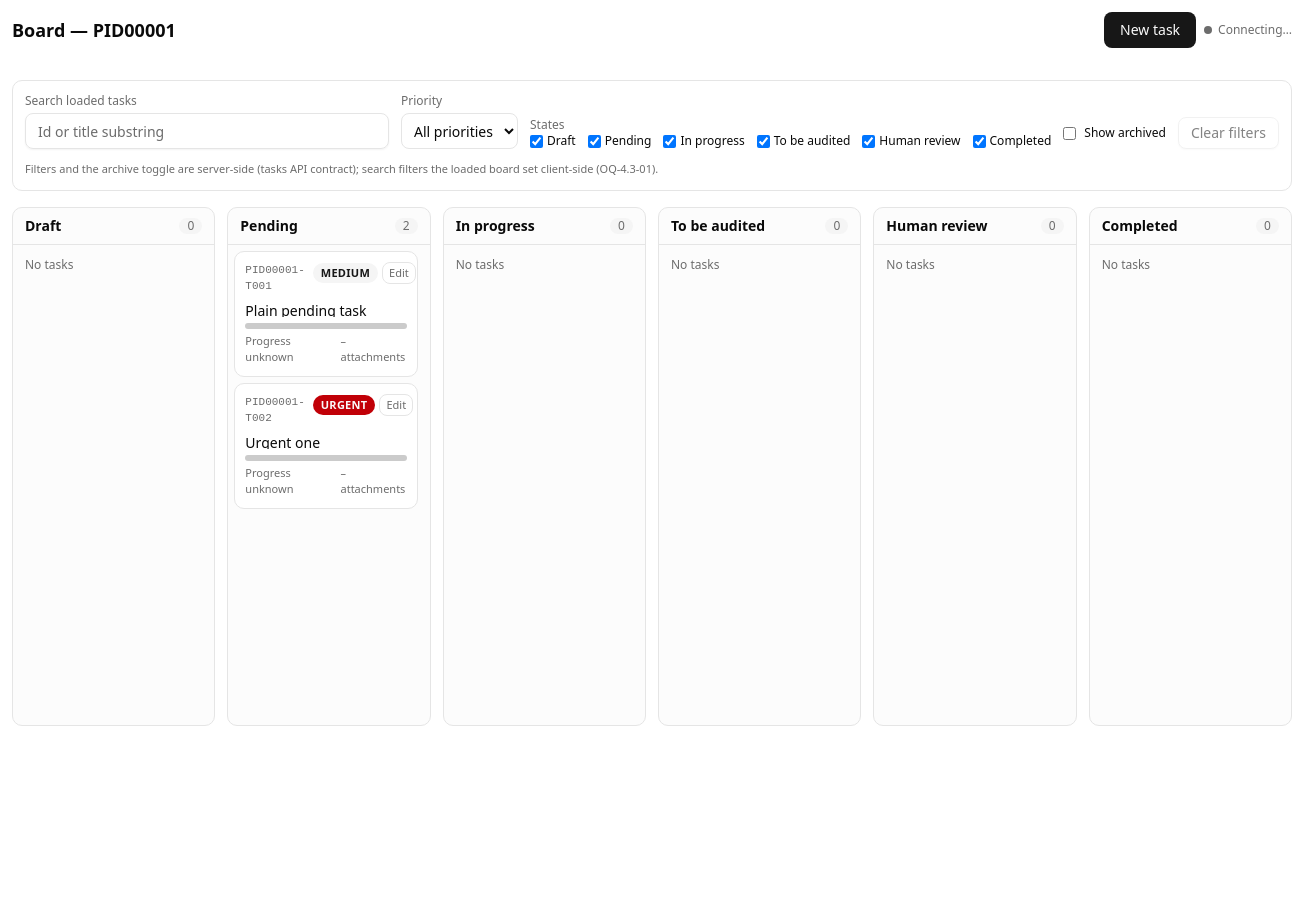
Test: Board filters (MT-4.3-03) › composes filters, then clears them all back to the documented defaults
Check: the link "Plain pending task" is shown, box [245, 300, 366, 316]
Select "Urgent" in the dropdown with test id "board-priority-filter" at (460,131), box [401, 113, 518, 149]
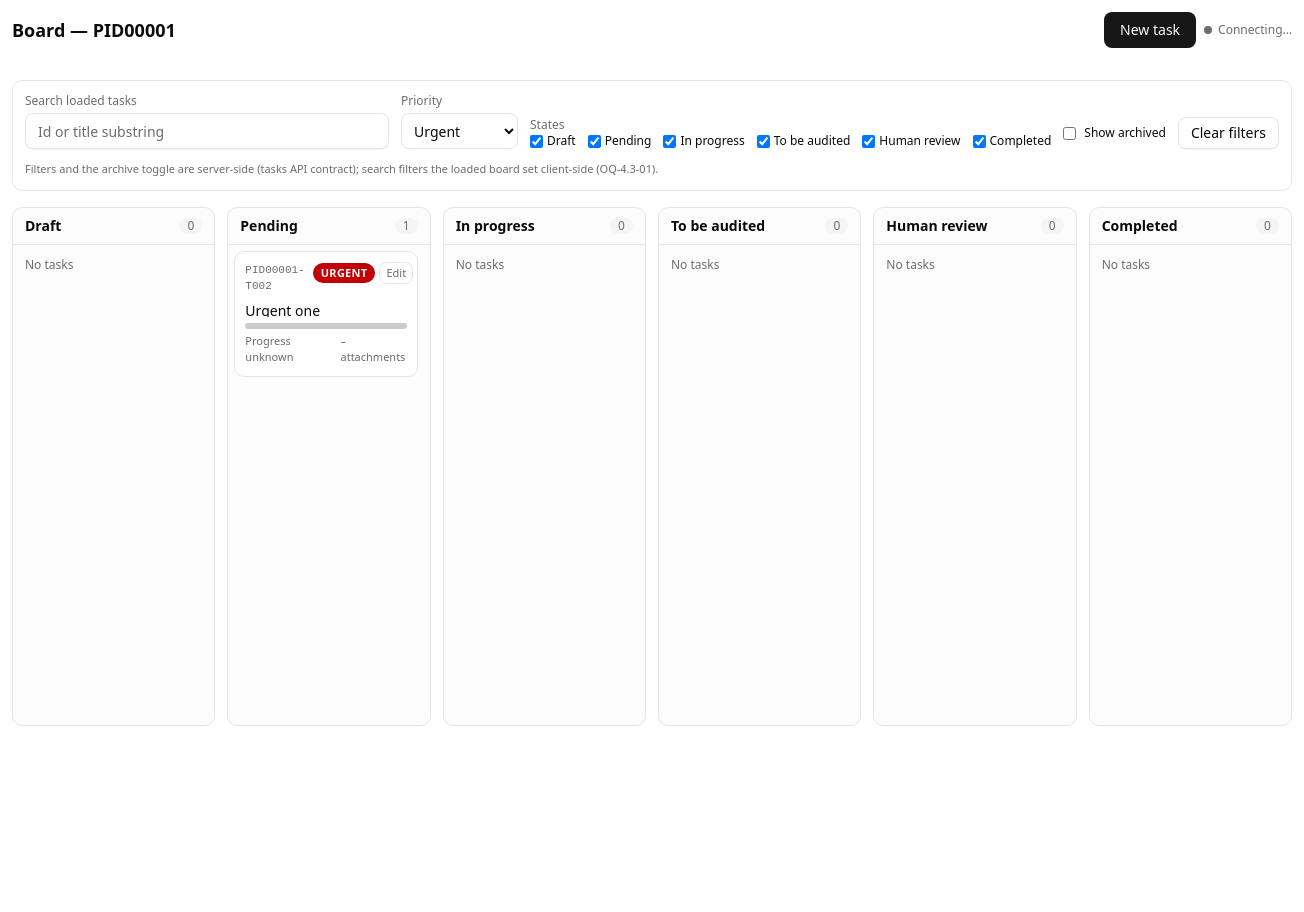
Click the checkbox with test id "board-archive-toggle" at (1070,133), box [1063, 126, 1076, 140]
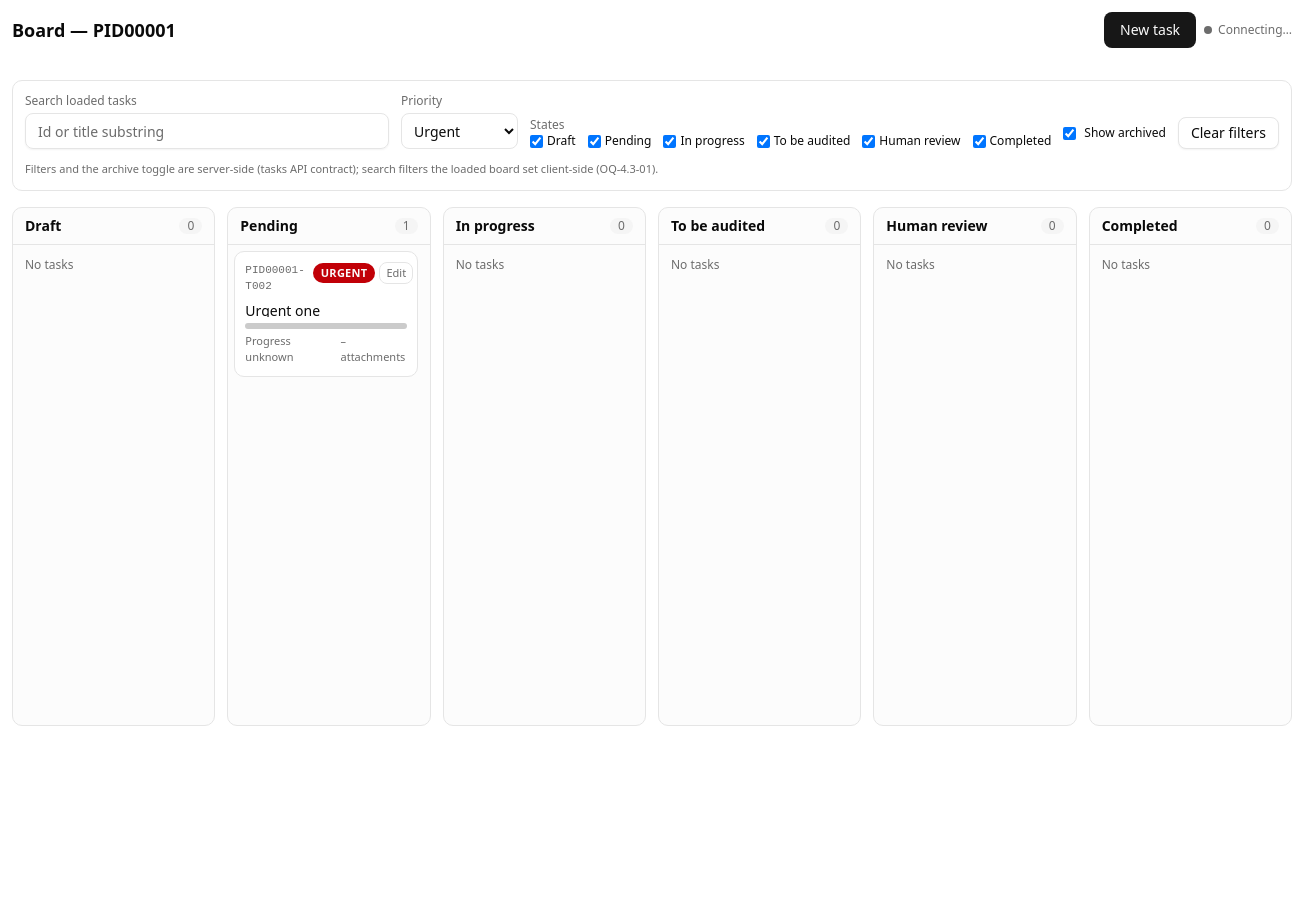
Click the checkbox with test id "board-state-filter-completed" at (979,141), box [972, 134, 986, 148]
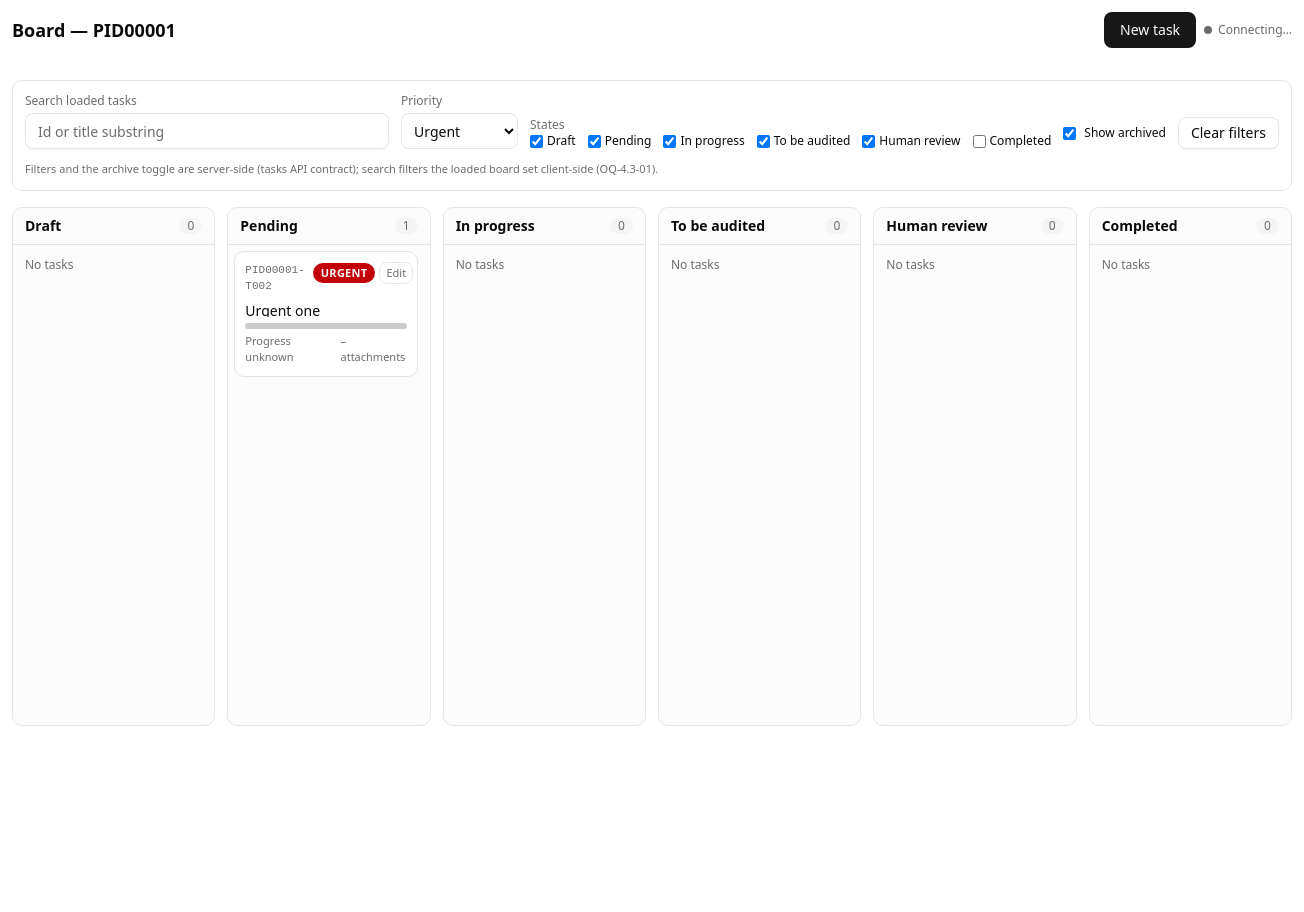
Type "one" into the search field with test id "board-search" at (207,131), box [25, 113, 389, 149]
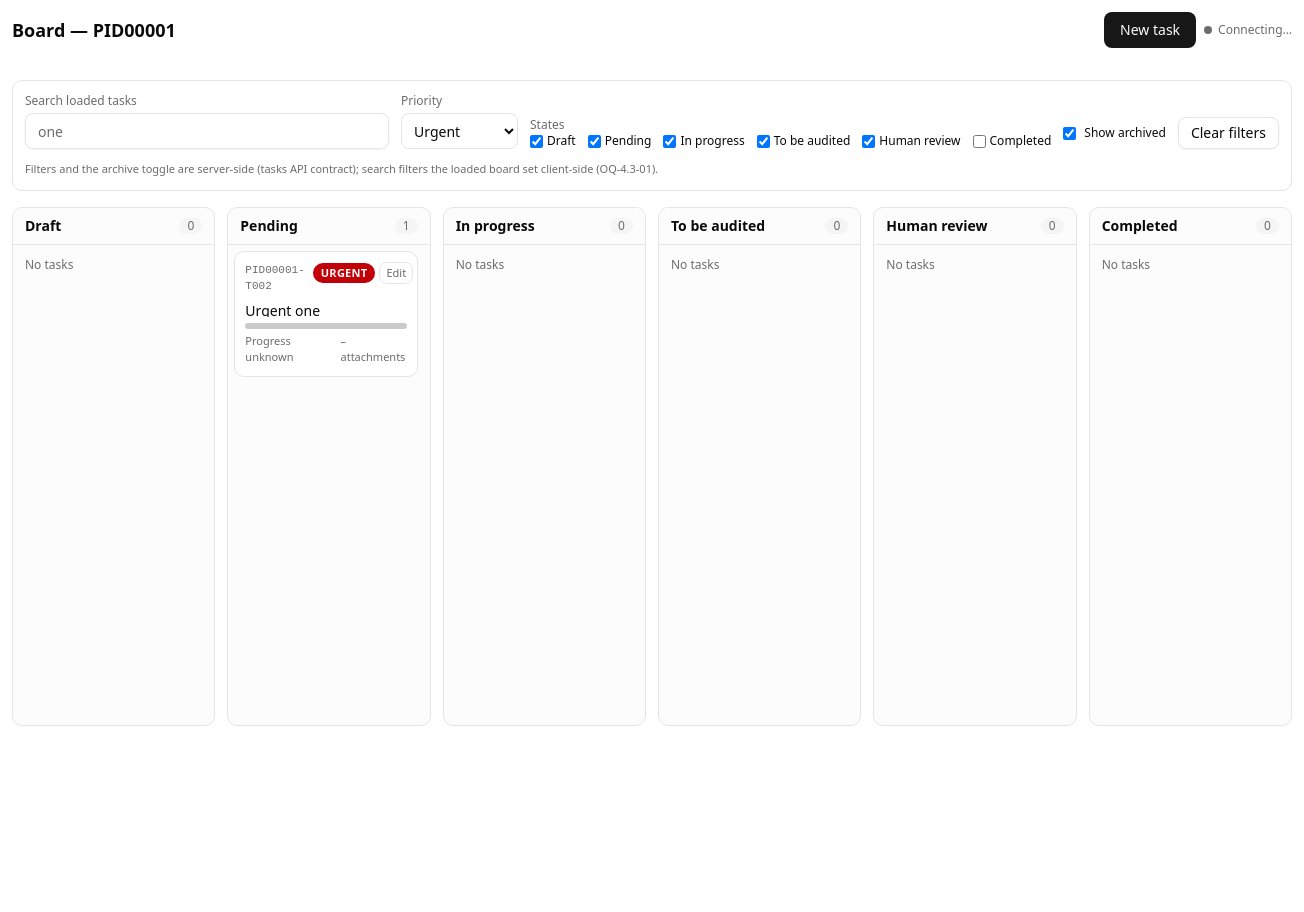
Check: the link "Urgent one" is shown, box [245, 300, 320, 316]
Check: the link "Plain pending task" is not shown
Click the button with test id "board-clear-filters" at (1228,133), box [1178, 117, 1279, 149]
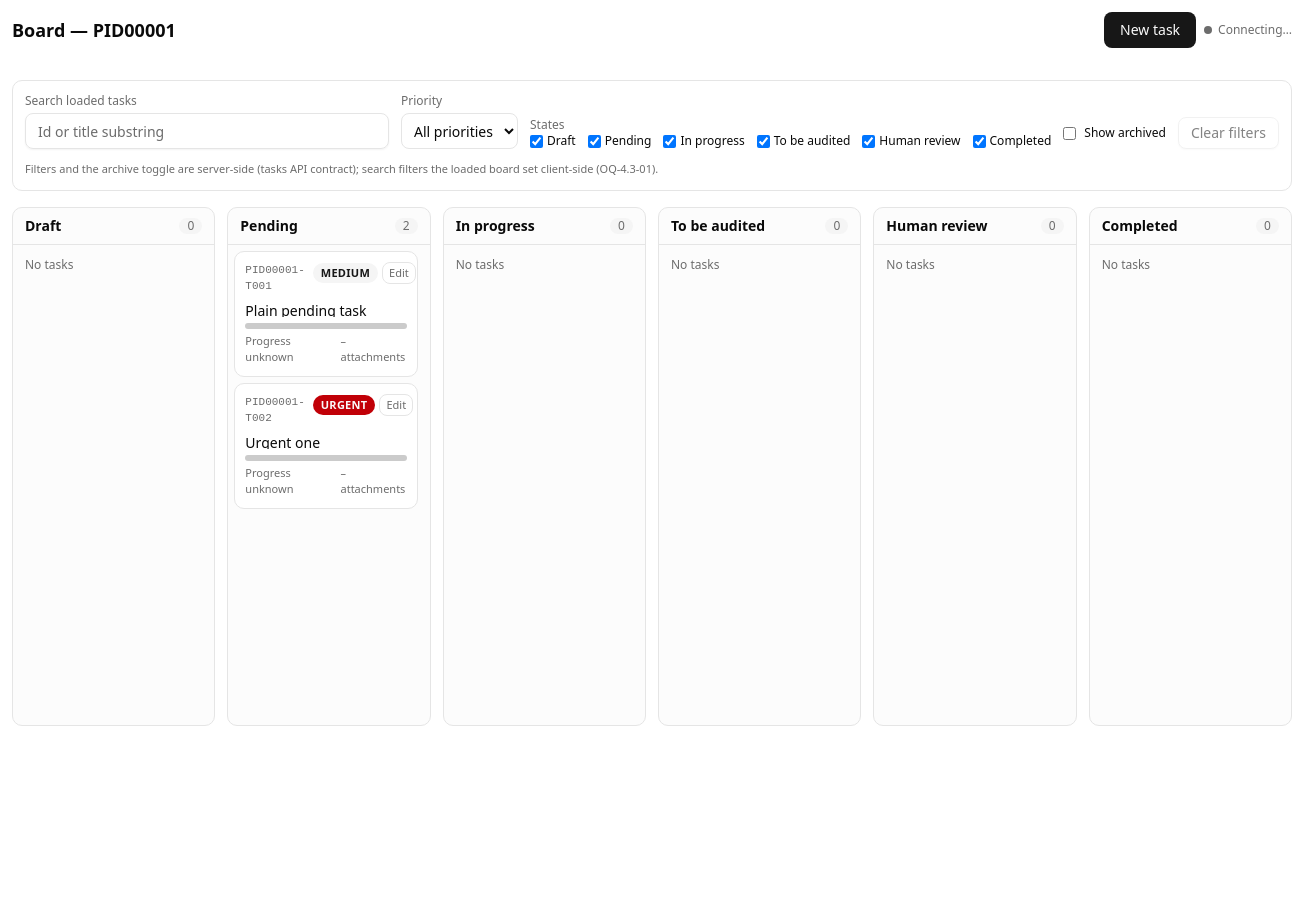
Check: the checkbox with test id "board-state-filter-completed" is checked, box [972, 134, 986, 148]
Check: the link "Plain pending task" is shown, box [245, 300, 366, 316]
Check: the search field with test id "board-search" is empty, box [25, 113, 389, 149]
